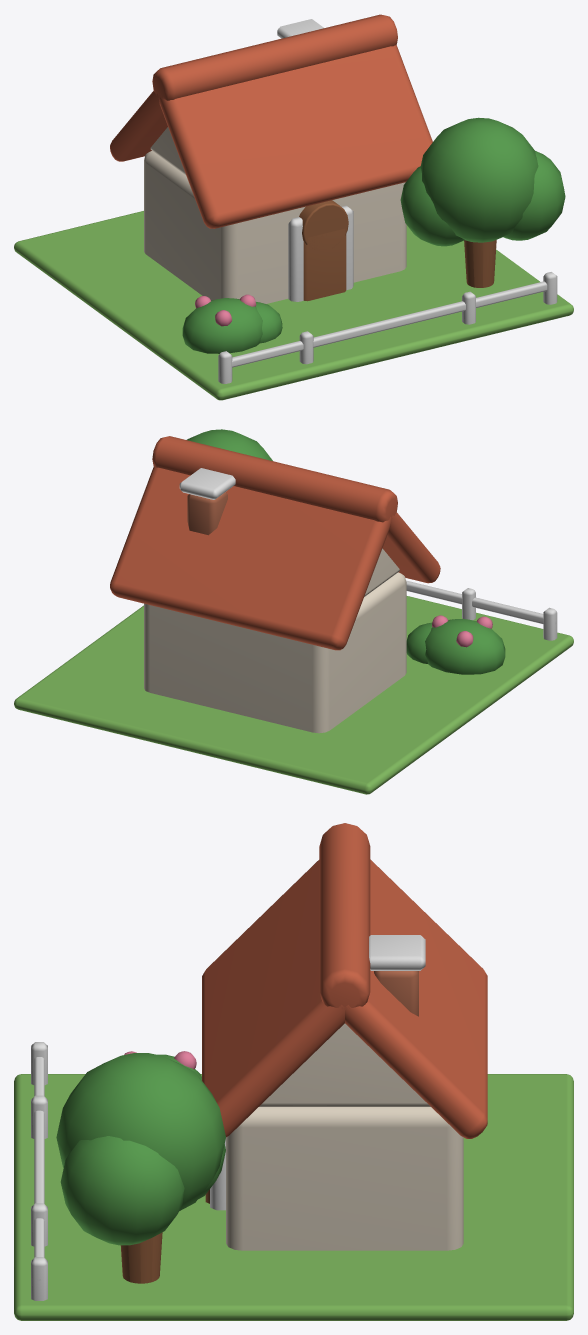
3 views of the same model, one above another, from view 1: azimuth 30°, elevation 25°; view 2: azimuth 150°, elevation 25°; view 3: azimuth 270°, elevation 25° (orthographic). The views are drawn at different scales.
Parts seen in each view (by area): view 1: Cube; view 2: Cube; view 3: Cube.
Part boxes in pixels (box(x1,y1,x2,y2)): Cube: box(14, 14, 573, 400); Cube: box(14, 429, 573, 794); Cube: box(14, 823, 573, 1320).
Size of the model in its own units: 0.7031 by 0.414 by 0.66.
